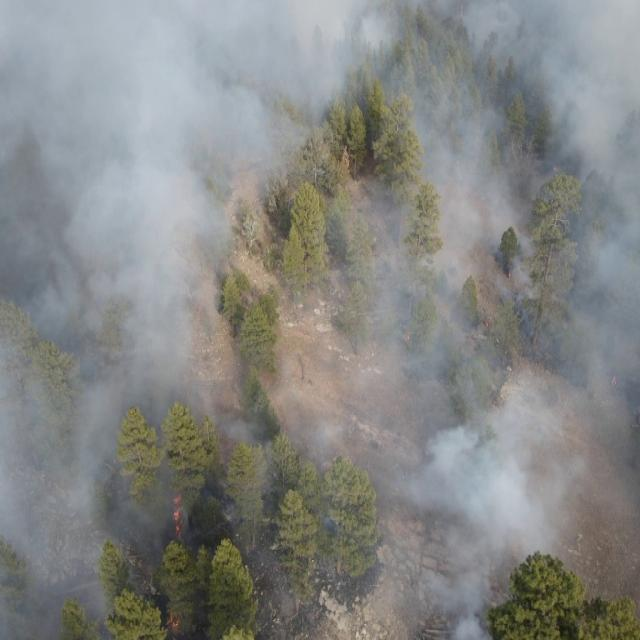fire: (158, 486, 198, 556), (164, 606, 189, 634), (480, 309, 500, 337), (602, 374, 625, 394)
smoke: (193, 0, 640, 536), (1, 0, 193, 640), (241, 537, 494, 640), (493, 537, 556, 565), (494, 563, 516, 606)
